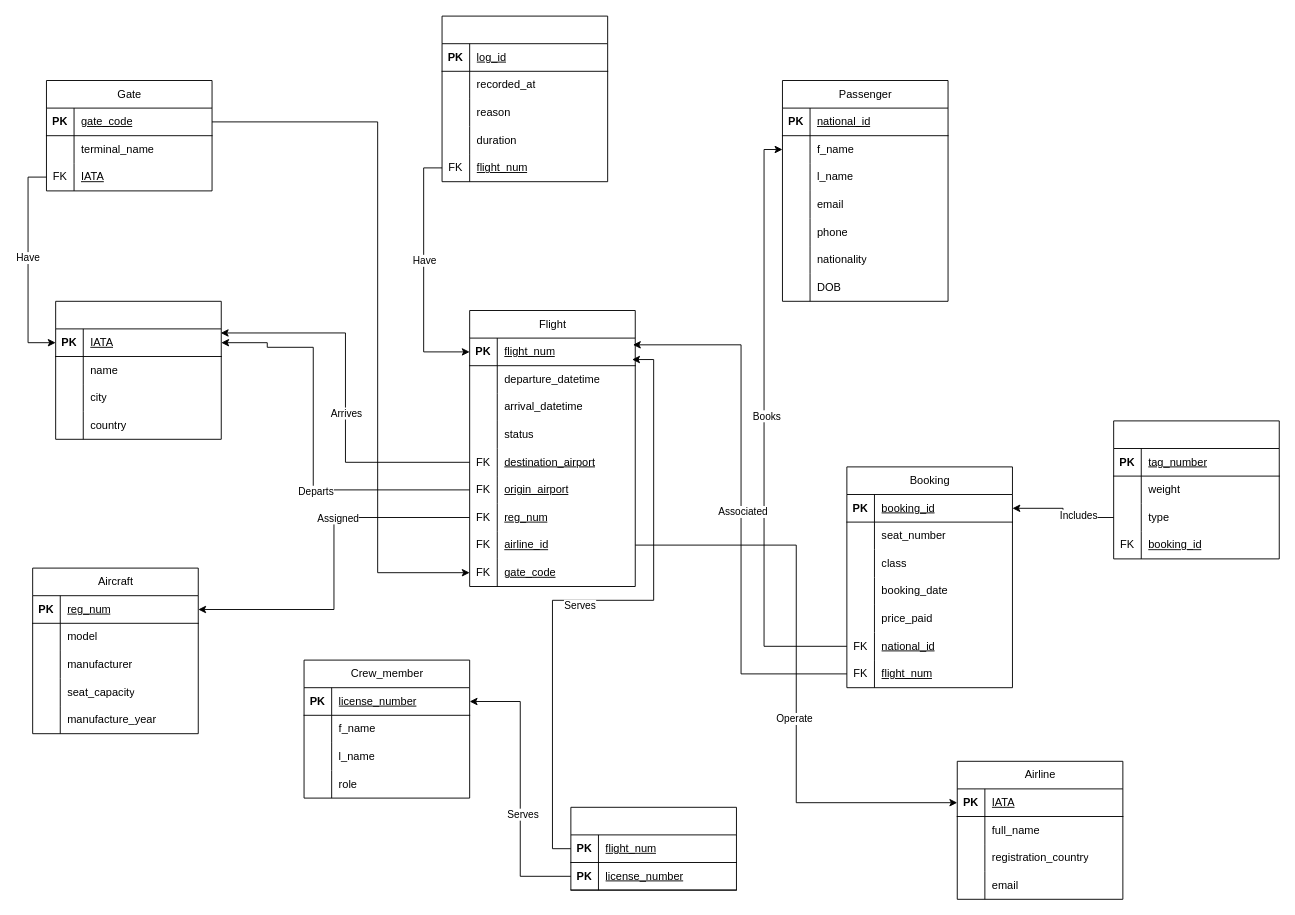
This 1295x915 diagram has some shape labels left out. Each missing label, with the box of its shape:
Airport: (55, 300, 221, 439)
Baggage: (1113, 420, 1279, 559)
Delay_log: (441, 15, 608, 182)
Flight_crew: (570, 806, 736, 890)
